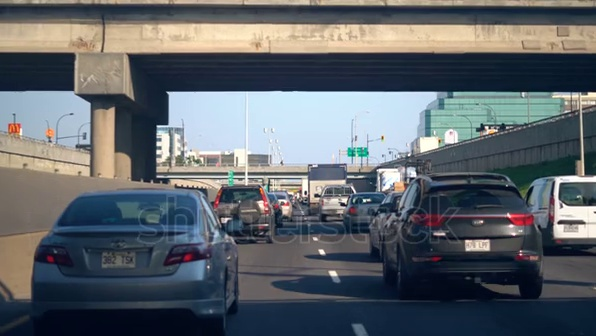licenseplate: (459, 239, 504, 259), (102, 247, 140, 269)
